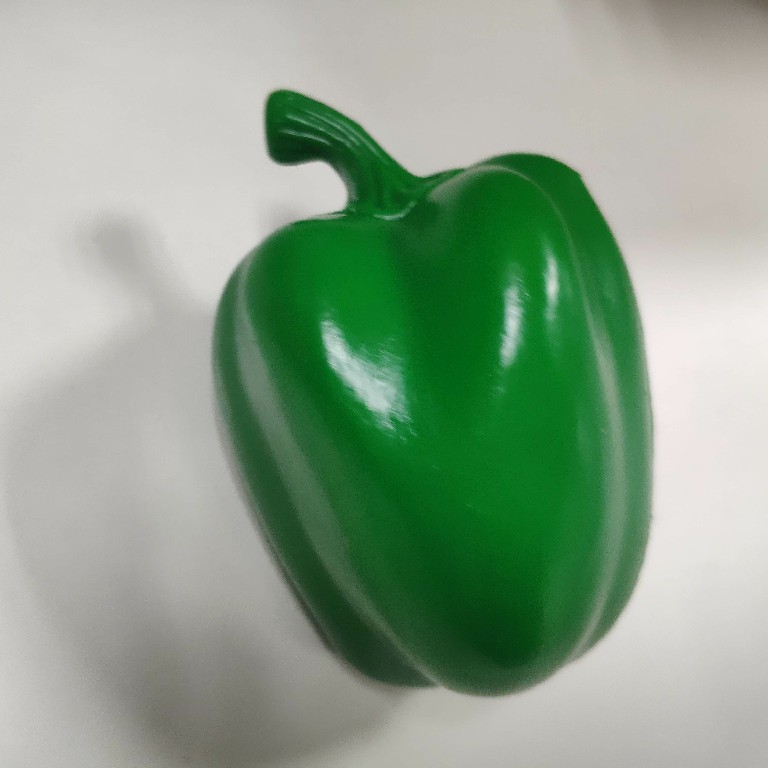fruit_pepper: (198, 84, 661, 707)
